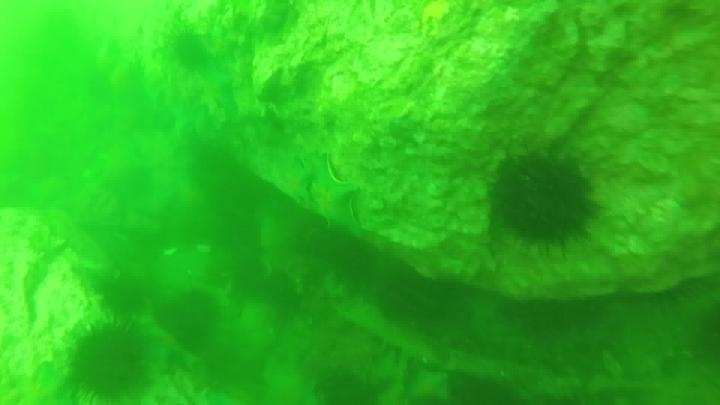echinus: (488, 148, 600, 253), (65, 317, 154, 403), (375, 267, 454, 329), (301, 224, 377, 286), (313, 344, 389, 405), (155, 288, 223, 351), (96, 273, 150, 319), (167, 27, 212, 73)
starfish: (303, 154, 364, 235), (136, 319, 200, 376), (401, 362, 455, 404)
